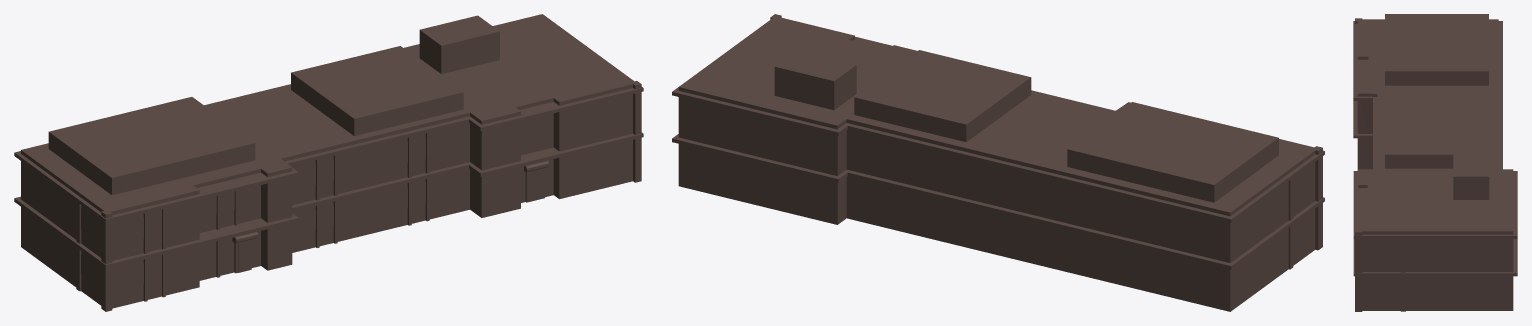
File: ind-warehouse-4.lod2.glb
3 views of the same model, side by side, from view 1: azimuth 30°, elevation 25°; view 2: azimuth 150°, elevation 25°; view 3: azimuth 270°, elevation 25° (orthographic). The views are drawn at different scales.
Visible parts, largest first — view 1: Industrial_Warehouse_4_Industrial_Facade_Flr_1_0; view 2: Industrial_Warehouse_4_Industrial_Facade_Flr_1_0; view 3: Industrial_Warehouse_4_Industrial_Facade_Flr_1_0.
Part boxes in pixels (x1,y1,x2,y2): Industrial_Warehouse_4_Industrial_Facade_Flr_1_0: [14, 14, 643, 311]; Industrial_Warehouse_4_Industrial_Facade_Flr_1_0: [672, 14, 1324, 311]; Industrial_Warehouse_4_Industrial_Facade_Flr_1_0: [1353, 14, 1517, 311].
Size of the model in its own units: 42.08 by 9.38 by 13.59.
